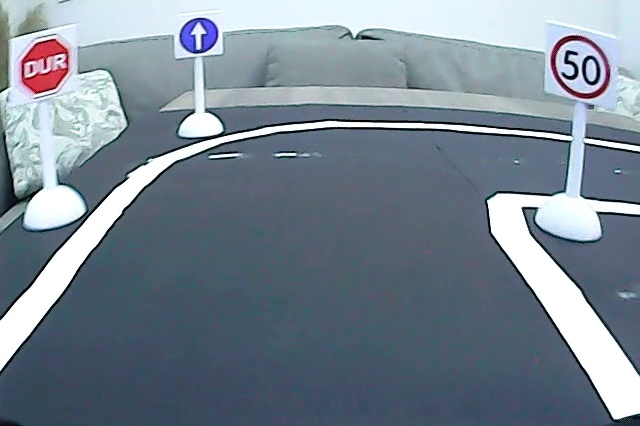speed limit 50: (550, 33, 612, 102)
stop sign: (16, 34, 76, 101)
